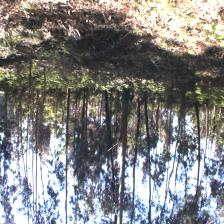trunktrack_idkeyframe: (119, 88, 130, 187), (143, 94, 150, 144), (104, 90, 112, 133), (195, 103, 200, 153), (65, 89, 70, 133), (136, 101, 140, 135)
